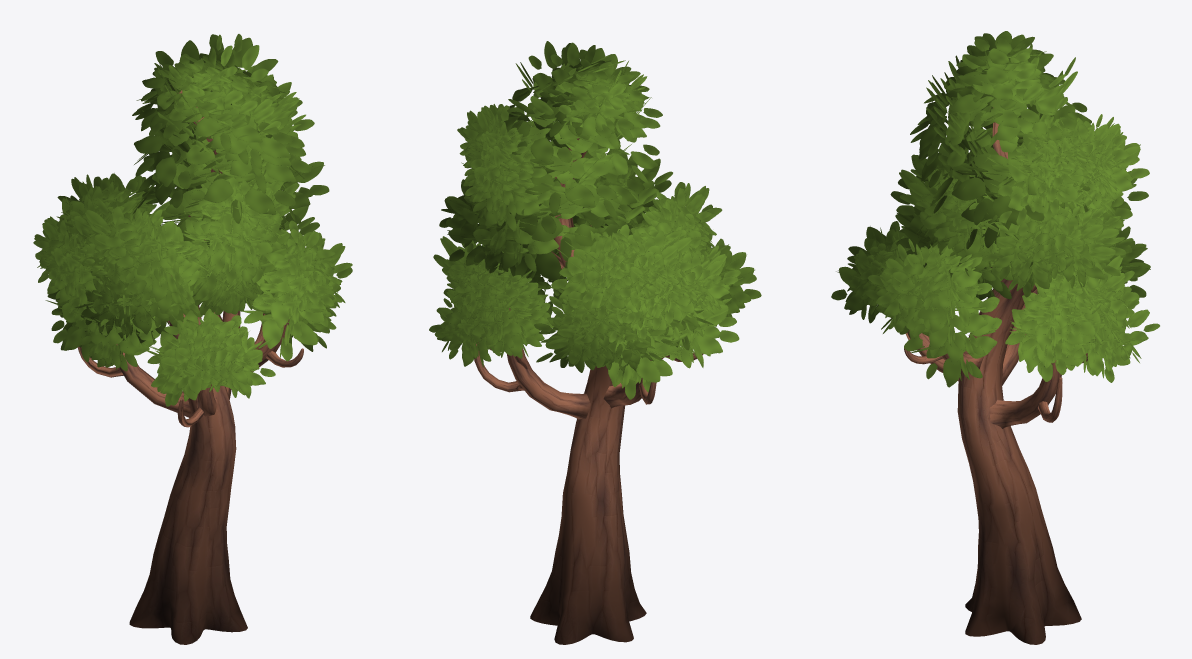
The model's file is Oak_2.glb.
3 renders of one model, left to right at view 1: azimuth 30°, elevation 25°; view 2: azimuth 150°, elevation 25°; view 3: azimuth 270°, elevation 25°, orthographic. The views are drawn at different scales.
Parts seen in each view (by area): view 1: CommonTree_2; view 2: CommonTree_2; view 3: CommonTree_2.
Boxes of the visible parts, x1,y1,x2,y2 form: CommonTree_2: (33,34,352,644); CommonTree_2: (429,41,761,644); CommonTree_2: (831,31,1159,644).
Size of the model in its own units: 4.46 by 7.64 by 4.28.
Materials: 2 (2 with a texture image).
